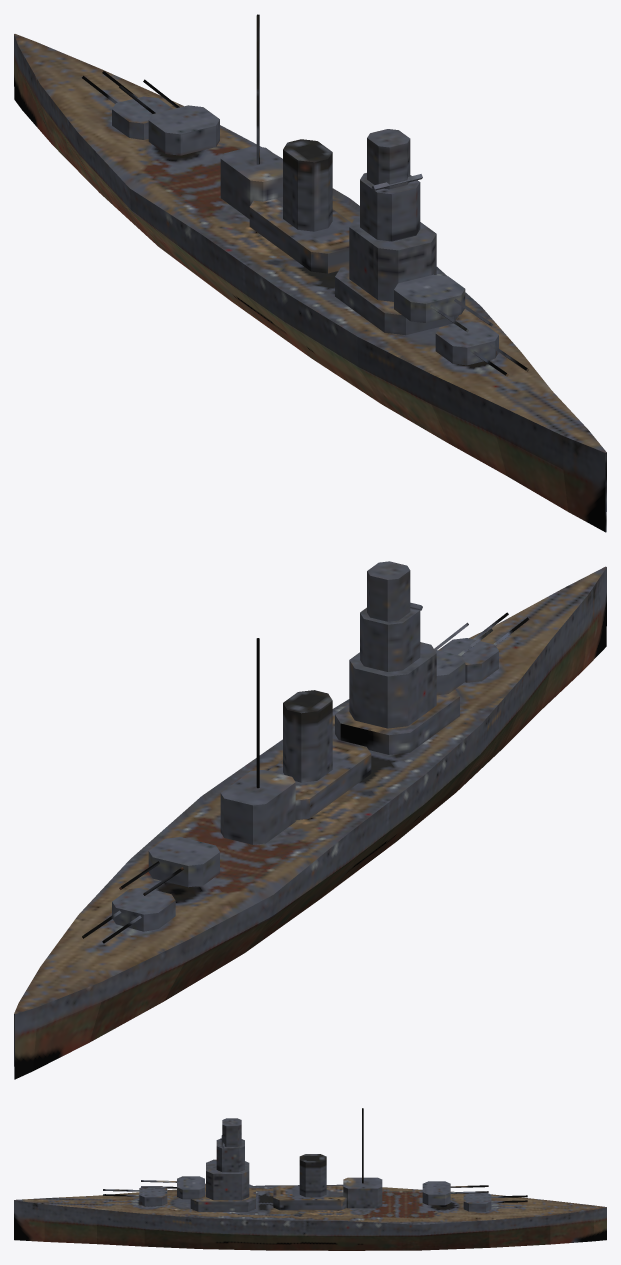
File: simple-far.glb
3 views of the same model, one above another, from view 1: azimuth 30°, elevation 25°; view 2: azimuth 150°, elevation 25°; view 3: azimuth 270°, elevation 25° (orthographic). The views are drawn at different scales.
Parts seen in each view (by area): view 1: Authored hull sections.001, Authored deck outline.001, Pagoda tier 0.001, Funnel 0.001, Deckhouse 1.001, Deckhouse 2.001, Pagoda tier 1.001, Main turret TurretShape33.001, Main turret TurretShape30.001, Deckhouse 0.001, Pagoda tier 2.001, Main turret TurretShape31.001 (+1 smaller); view 2: Authored deck outline.001, Authored hull sections.001, Pagoda tier 0.001, Deckhouse 2.001, Funnel 0.001, Deckhouse 0.001, Deckhouse 1.001, Pagoda tier 1.001, Main turret TurretShape33.001, Pagoda tier 2.001, Main turret TurretShape32.001, Main turret TurretShape31.001 (+1 smaller); view 3: Authored hull sections.001, Authored deck outline.001, Deckhouse 1.001, Pagoda tier 0.001, Deckhouse 2.001, Funnel 0.001, Deckhouse 0.001, Pagoda tier 1.001, Main turret TurretShape33.001, Main turret TurretShape30.001, Pagoda tier 2.001, Main turret TurretShape32.001 (+1 smaller).
Part boxes in pixels (x1,y1,x2,y2): Authored hull sections.001: (14, 34, 606, 532); Authored deck outline.001: (14, 34, 606, 452); Pagoda tier 0.001: (349, 217, 436, 301); Funnel 0.001: (283, 139, 332, 231); Deckhouse 1.001: (249, 197, 351, 273); Deckhouse 2.001: (220, 146, 282, 218); Pagoda tier 1.001: (360, 173, 420, 241); Main turret TurretShape33.001: (148, 105, 219, 155); Main turret TurretShape30.001: (394, 274, 465, 322); Deckhouse 0.001: (335, 266, 458, 335); Pagoda tier 2.001: (367, 129, 410, 189); Main turret TurretShape31.001: (435, 320, 498, 365); Authored deck outline.001: (14, 566, 606, 1013); Authored hull sections.001: (14, 567, 606, 1079); Pagoda tier 0.001: (349, 642, 436, 728); Deckhouse 2.001: (220, 770, 295, 844); Funnel 0.001: (283, 690, 332, 782); Deckhouse 0.001: (335, 689, 459, 754); Deckhouse 1.001: (268, 738, 371, 820); Pagoda tier 1.001: (360, 607, 420, 671); Main turret TurretShape33.001: (148, 837, 219, 887); Pagoda tier 2.001: (367, 561, 410, 621); Main turret TurretShape32.001: (112, 887, 175, 931); Main turret TurretShape31.001: (438, 638, 498, 682); Authored hull sections.001: (14, 1200, 606, 1250); Authored deck outline.001: (14, 1184, 606, 1224); Deckhouse 1.001: (273, 1185, 346, 1210); Pagoda tier 0.001: (206, 1159, 249, 1200); Deckhouse 2.001: (343, 1177, 382, 1208); Funnel 0.001: (299, 1154, 326, 1197); Deckhouse 0.001: (190, 1183, 255, 1211); Pagoda tier 1.001: (216, 1138, 244, 1172); Main turret TurretShape33.001: (422, 1181, 450, 1205); Main turret TurretShape30.001: (177, 1176, 204, 1199); Pagoda tier 2.001: (222, 1118, 241, 1146); Main turret TurretShape32.001: (463, 1193, 491, 1211).
Size of the model in its own units: 19.68 by 33.3 by 136.
1 material, 1 textured.
